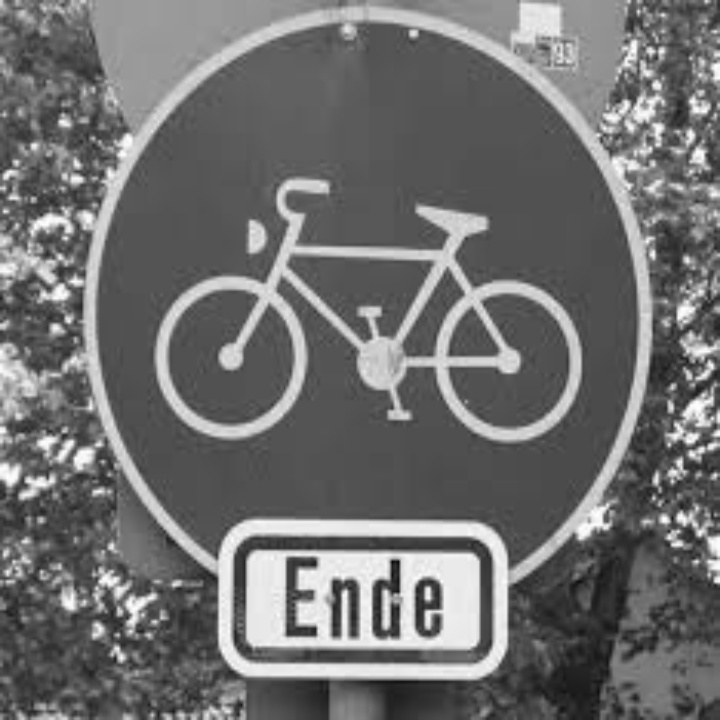bicycle: (137, 155, 597, 483)
